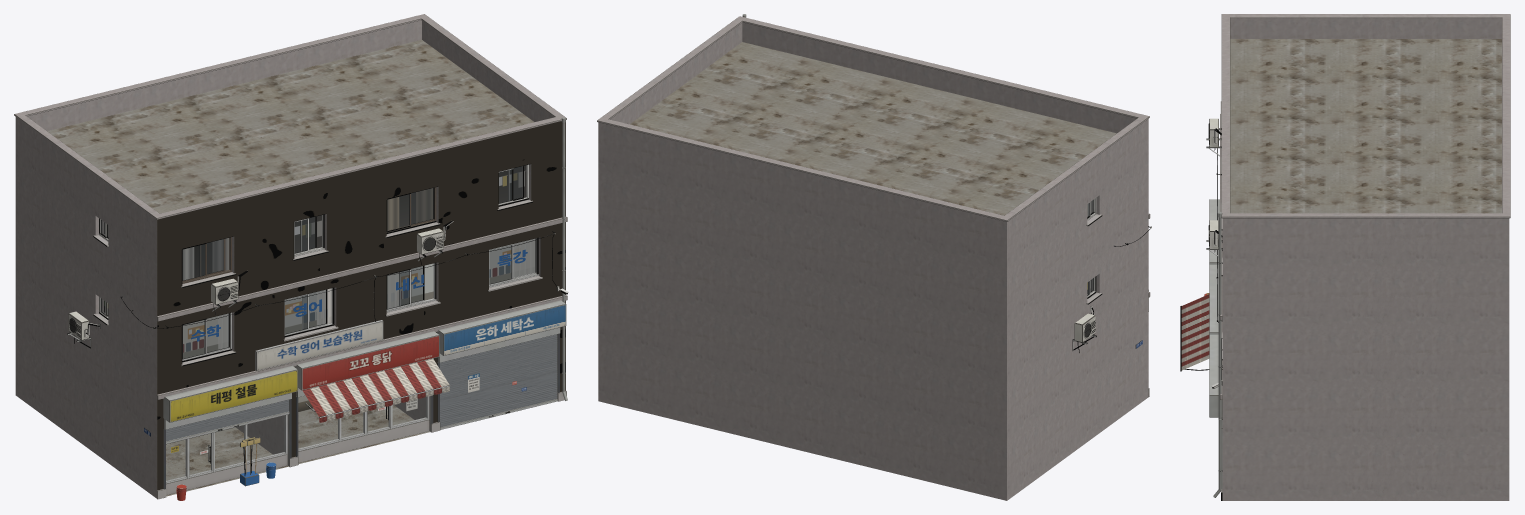
File: BuildingShopRow.fbx
The picture shows the model from 3 angles, left to right: view 1: azimuth 30°, elevation 25°; view 2: azimuth 150°, elevation 25°; view 3: azimuth 270°, elevation 25°; orthographic projection.
Parts seen in each view (by area): view 1: BuildingShopRow; view 2: BuildingShopRow; view 3: BuildingShopRow.
Boxes of the visible parts, <box> form: BuildingShopRow: <box>14,14,568,500</box>; BuildingShopRow: <box>597,14,1151,500</box>; BuildingShopRow: <box>1180,14,1510,500</box>.
Bounding box in the file's own units: 15.56 × 9.92 × 10.36.
